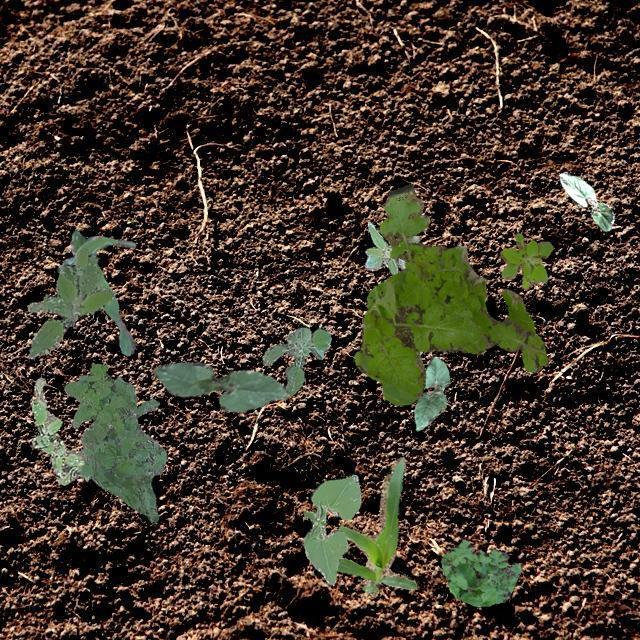crop: (336, 456, 416, 596), (56, 230, 134, 354), (152, 362, 288, 412), (302, 474, 359, 584), (558, 170, 614, 230), (412, 356, 450, 430)
weed: (353, 183, 548, 404), (64, 362, 165, 520), (27, 248, 114, 358), (31, 376, 84, 484), (440, 540, 520, 606), (262, 328, 331, 396), (364, 220, 419, 274), (499, 232, 552, 288)
